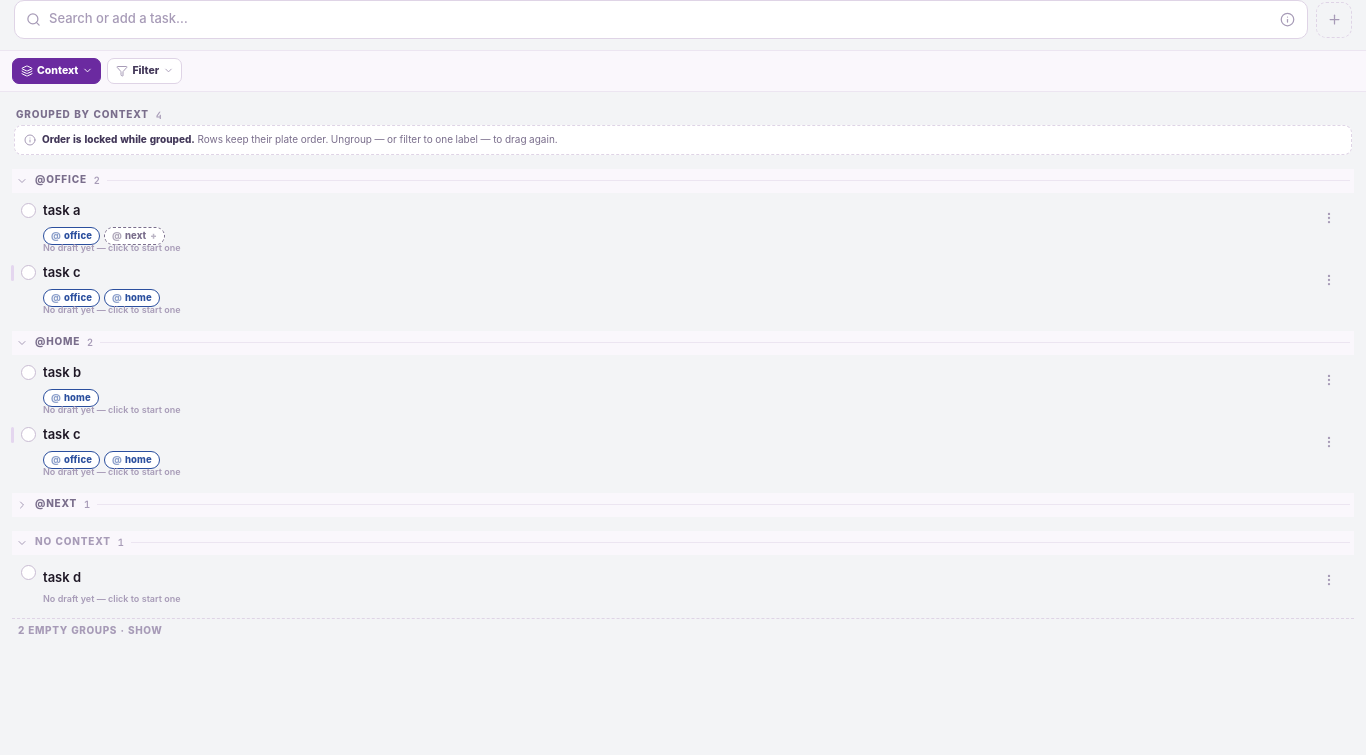
Test: the labelled rail › collapses empty groups to one line rather than N headers
Click the button "2 empty groups · Show" at (67, 631), box 12,618 -> 1354,644
(page scrolled)
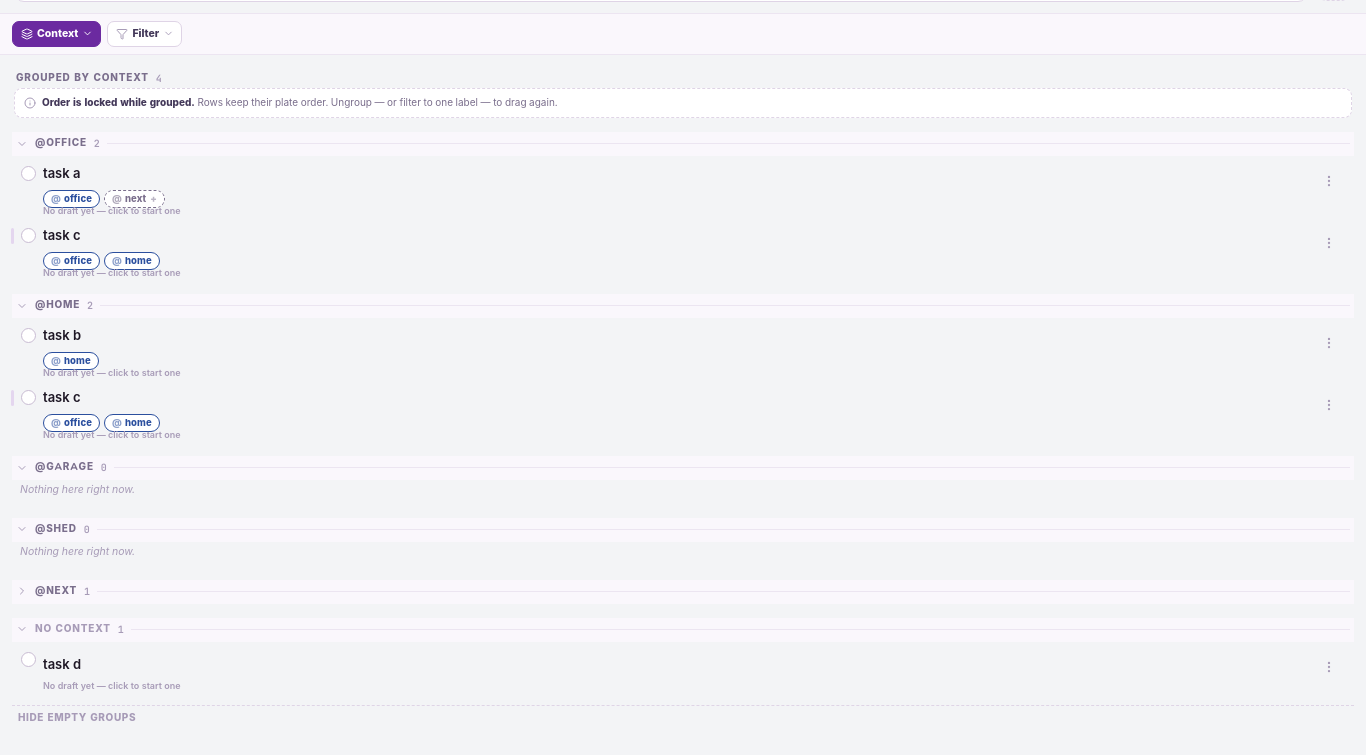
Expected: the button "Hide empty groups" is shown, 12,705 -> 1354,731
